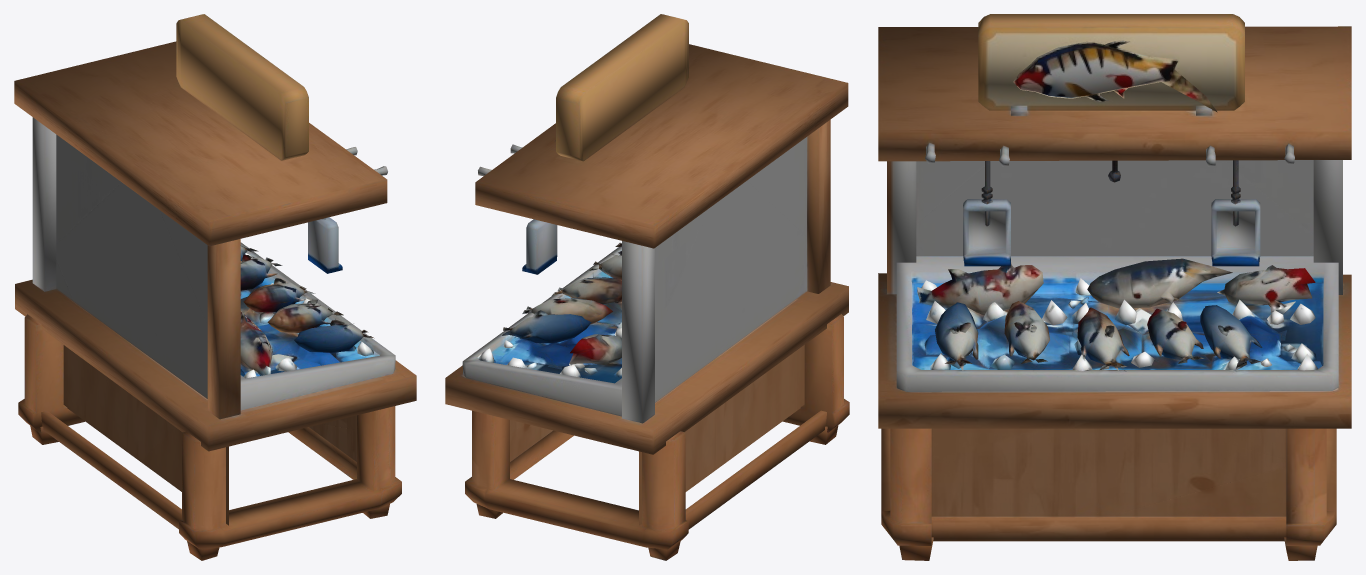
The picture shows the model from 3 angles, left to right: view 1: azimuth 30°, elevation 25°; view 2: azimuth 150°, elevation 25°; view 3: azimuth 270°, elevation 25°; orthographic projection. The views are drawn at different scales.
Parts seen in each view (by area): view 1: tripo_node_fc75d81d-8632-4d38-a4de-443ff090c6f1; view 2: tripo_node_fc75d81d-8632-4d38-a4de-443ff090c6f1; view 3: tripo_node_fc75d81d-8632-4d38-a4de-443ff090c6f1.
Boxes of the visible parts, left/top/right/bottom form: tripo_node_fc75d81d-8632-4d38-a4de-443ff090c6f1: left=14, top=14, right=416, bottom=560; tripo_node_fc75d81d-8632-4d38-a4de-443ff090c6f1: left=445, top=14, right=849, bottom=560; tripo_node_fc75d81d-8632-4d38-a4de-443ff090c6f1: left=878, top=14, right=1351, bottom=560.
Bounding box in the file's own units: 0.5449 × 0.998 × 0.8496.
1 material, 1 textured.
